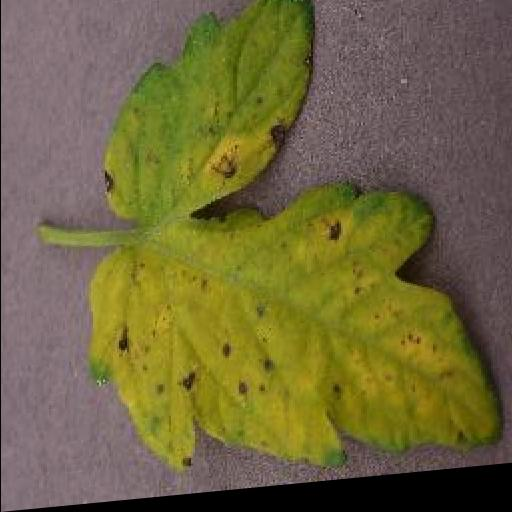Septoria: (89, 0, 499, 491)
